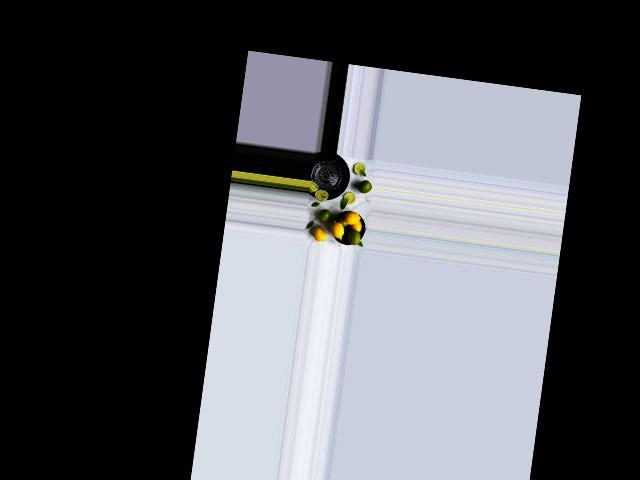lemon: (358, 179, 372, 195)
